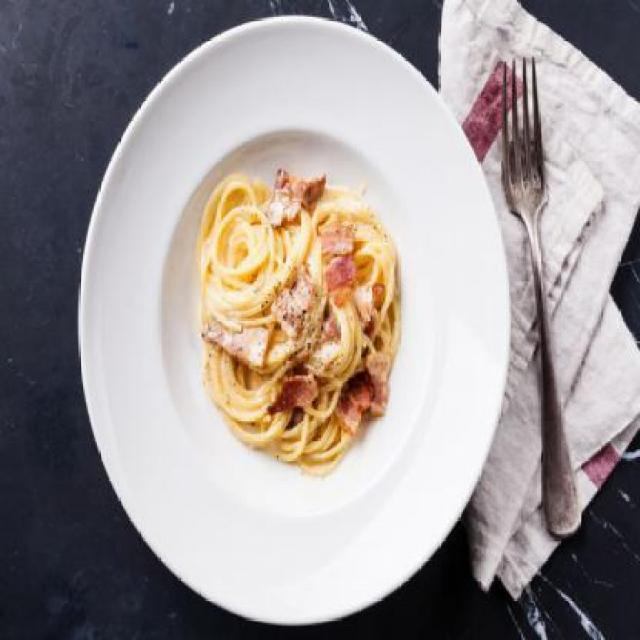Pasta with carbonara sauce: (156, 110, 450, 496)
